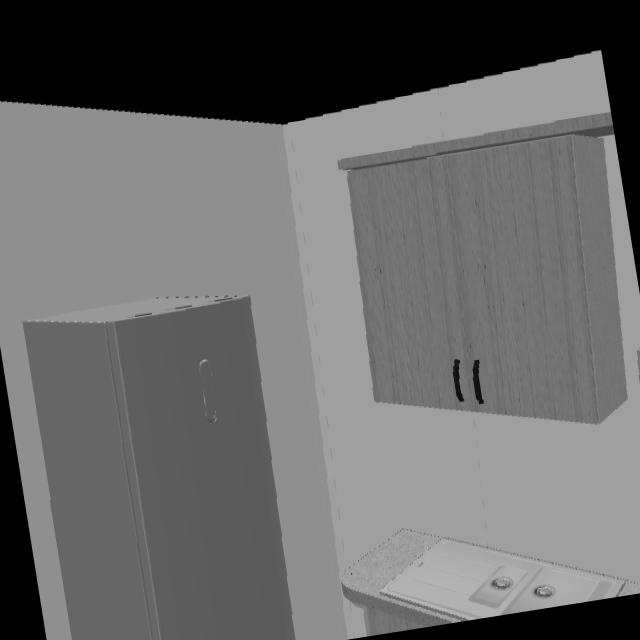cabinet: (341, 132, 627, 426)
fridge: (23, 295, 296, 640)
sink: (343, 538, 631, 625)
